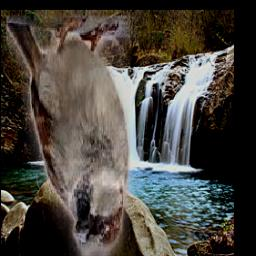Sparrow: (6, 16, 130, 256)
